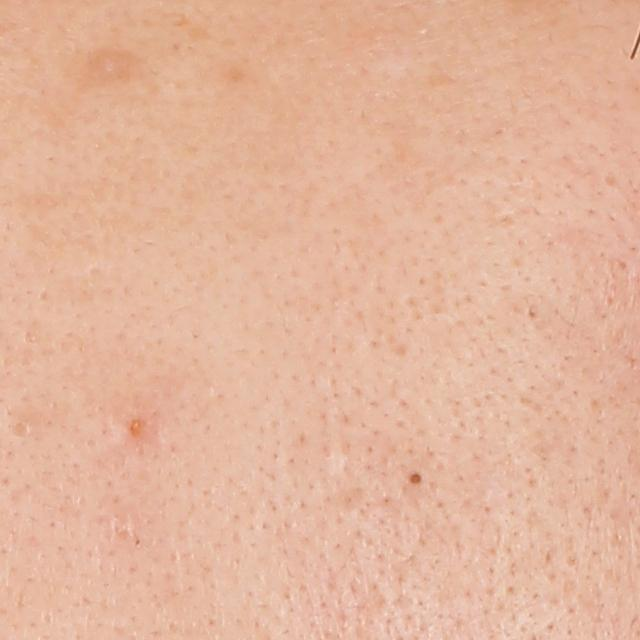comedo: (388, 460, 440, 496), (11, 409, 42, 438)
